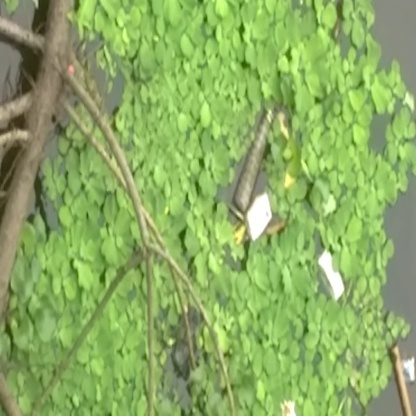branch: (66, 81, 200, 349)
